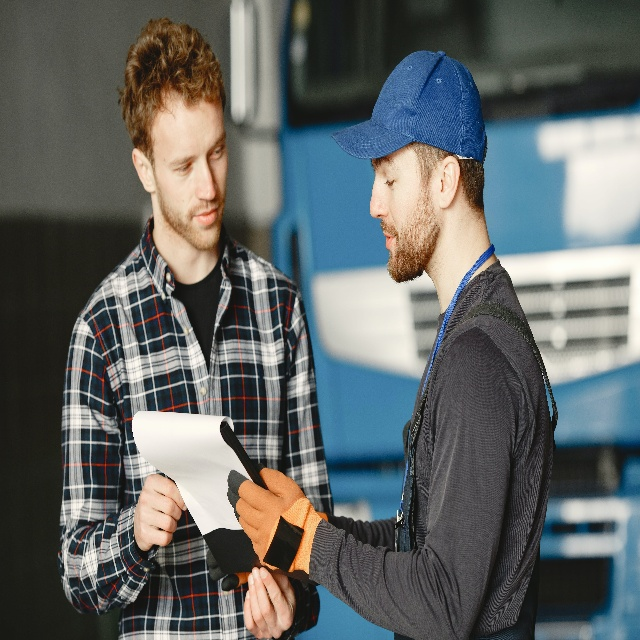Guantes: (226, 463, 320, 578)
Sin_guantes: (135, 475, 188, 545), (245, 570, 298, 640)
